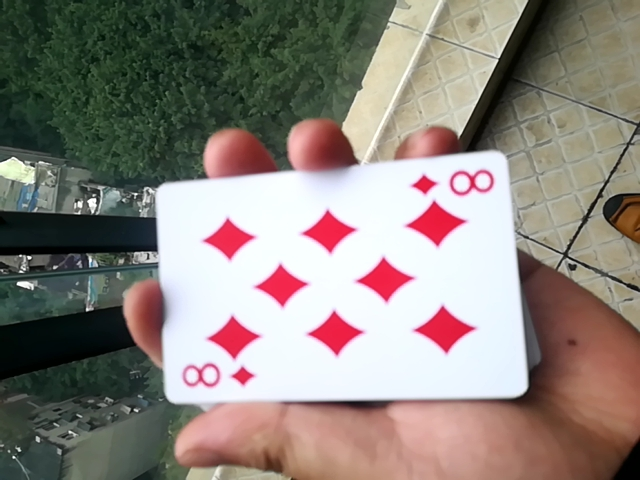fk 8: (139, 158, 530, 417)
